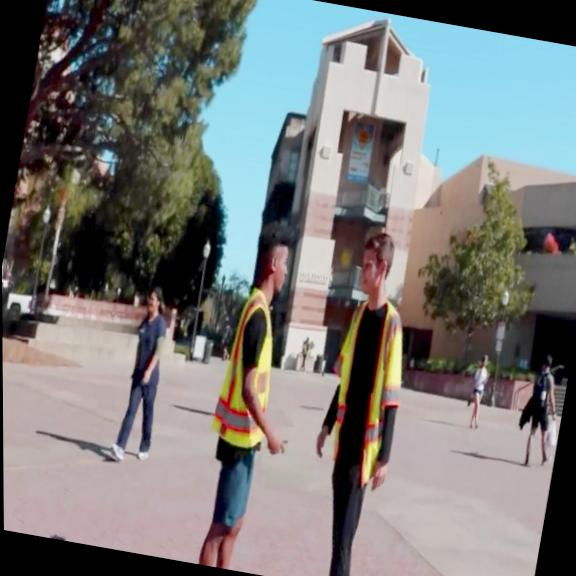safety_vest: (317, 292, 420, 488), (206, 282, 289, 450)
